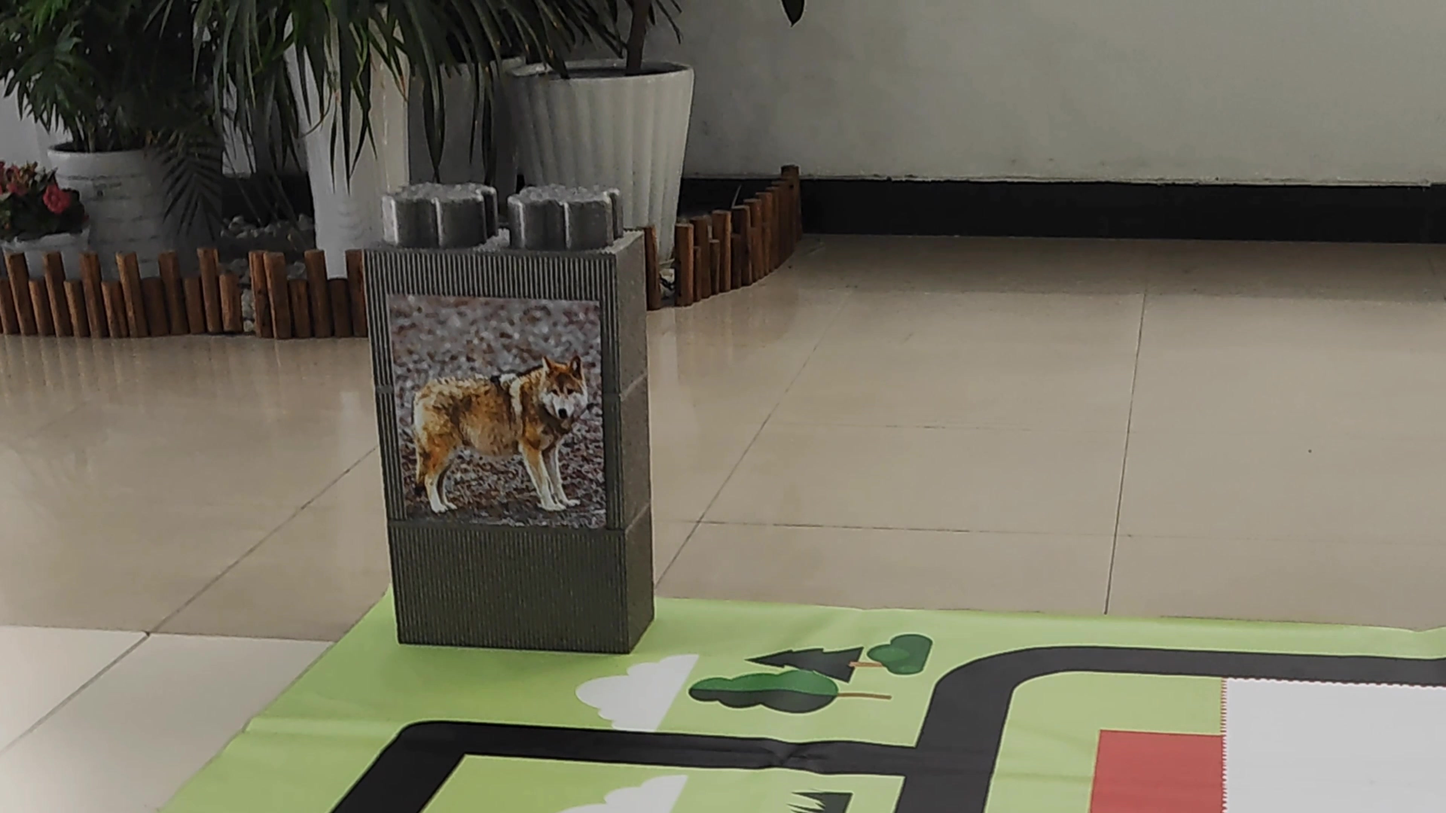wolf: (390, 332, 616, 536)
